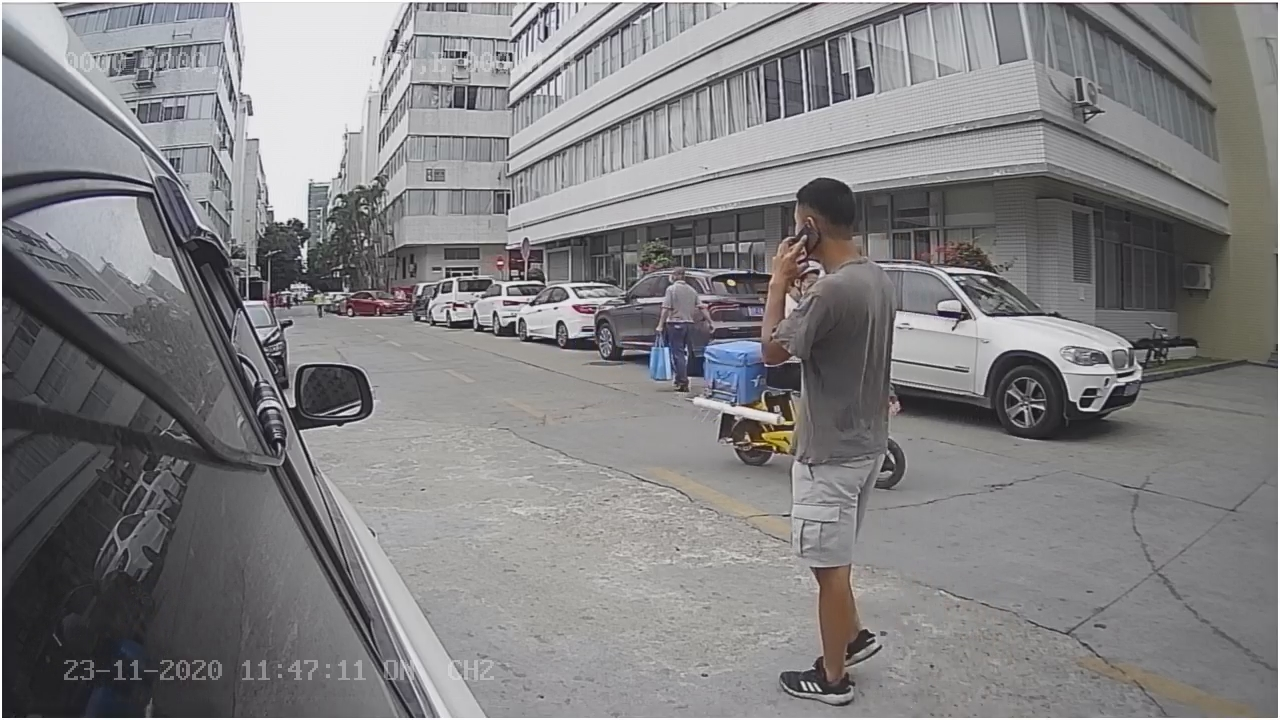person: (751, 168, 901, 705)
